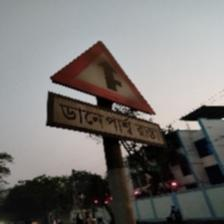Animal: (36, 32, 171, 149)
